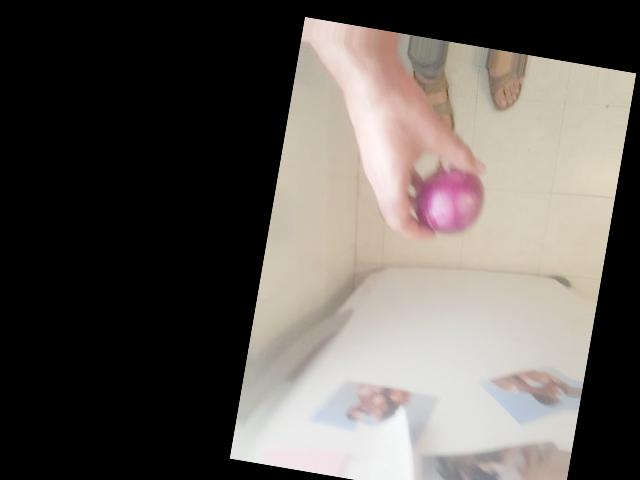onion: (401, 148, 494, 246)
